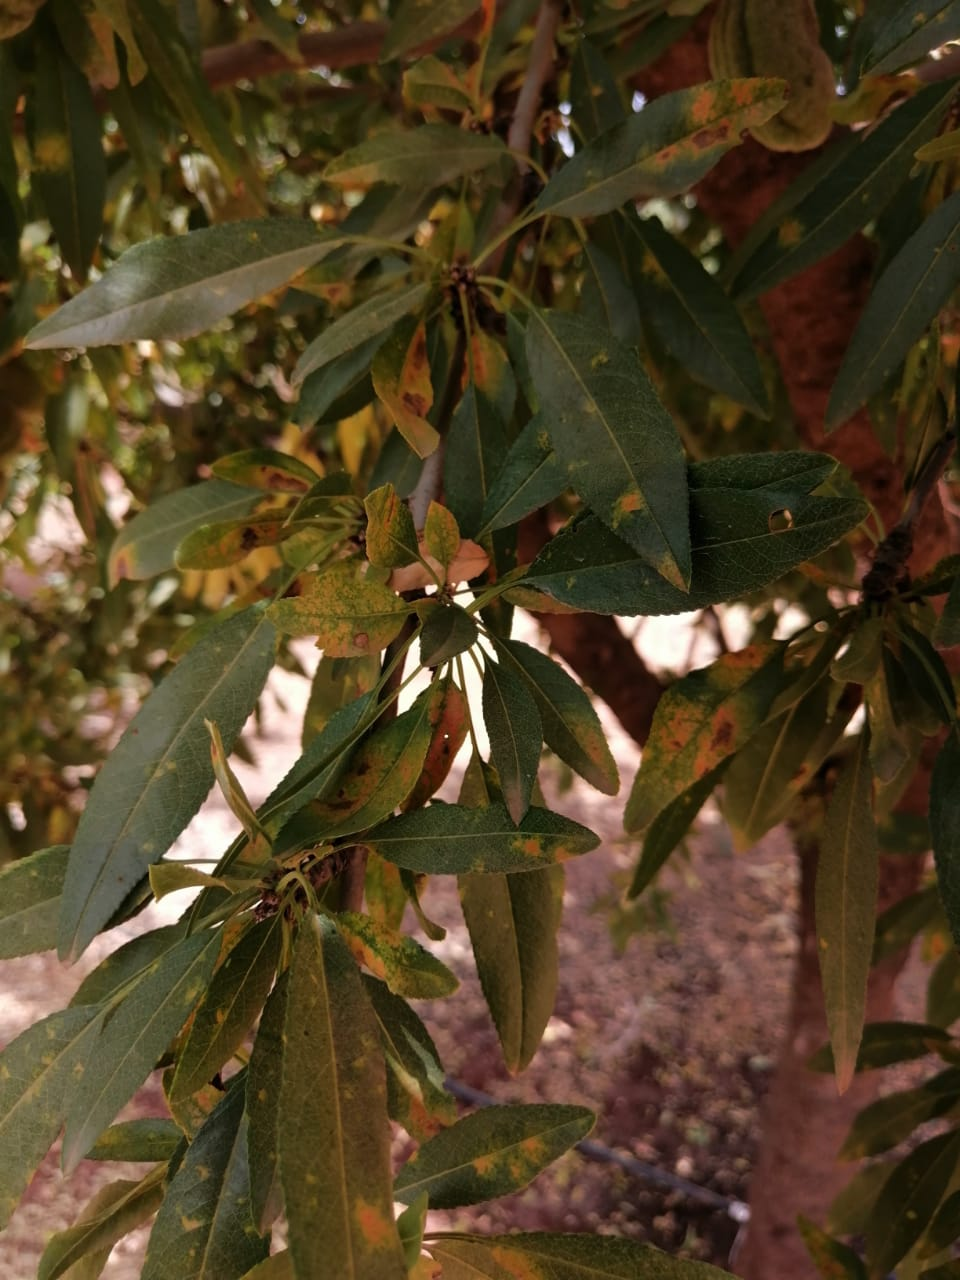polystigma: (52, 603, 272, 968), (521, 302, 696, 599), (276, 908, 406, 1280), (279, 918, 411, 1280), (57, 926, 234, 1176), (526, 73, 790, 219), (621, 635, 792, 835), (264, 690, 441, 860), (809, 741, 886, 1094), (1, 999, 113, 1208), (99, 473, 260, 599), (498, 634, 622, 794), (265, 572, 410, 660), (456, 325, 518, 445), (361, 480, 425, 571), (419, 503, 461, 567)
